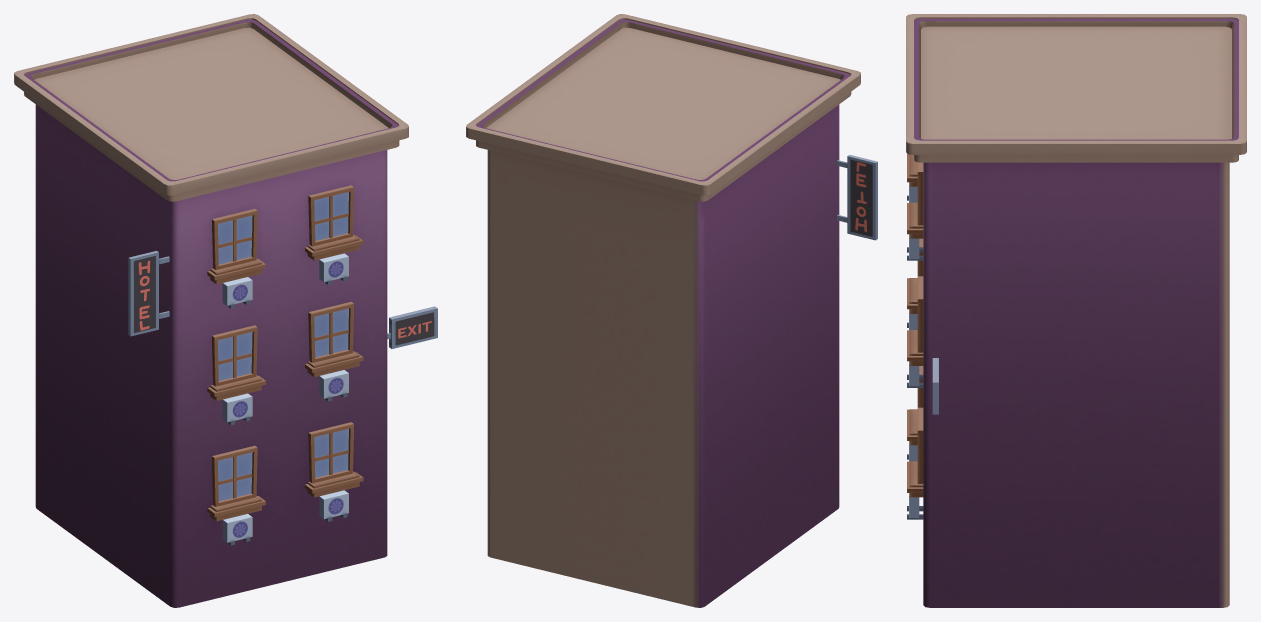
The model's file is building_01.fbx.
3 renders of one model, left to right at view 1: azimuth 30°, elevation 25°; view 2: azimuth 150°, elevation 25°; view 3: azimuth 270°, elevation 25°, orthographic. The views are drawn at different scales.
Parts seen in each view (by area): view 1: building_01, building_01_deco; view 2: building_01, building_01_deco; view 3: building_01, building_01_deco.
Part boxes in pixels (bbox=[...]): building_01: bbox=[14, 14, 408, 607]; building_01_deco: bbox=[128, 251, 437, 545]; building_01: bbox=[466, 14, 860, 607]; building_01_deco: bbox=[837, 154, 877, 240]; building_01: bbox=[906, 14, 1246, 607]; building_01_deco: bbox=[907, 182, 938, 519].
Size of the model in its own units: 10.84 by 14.51 by 9.51.
